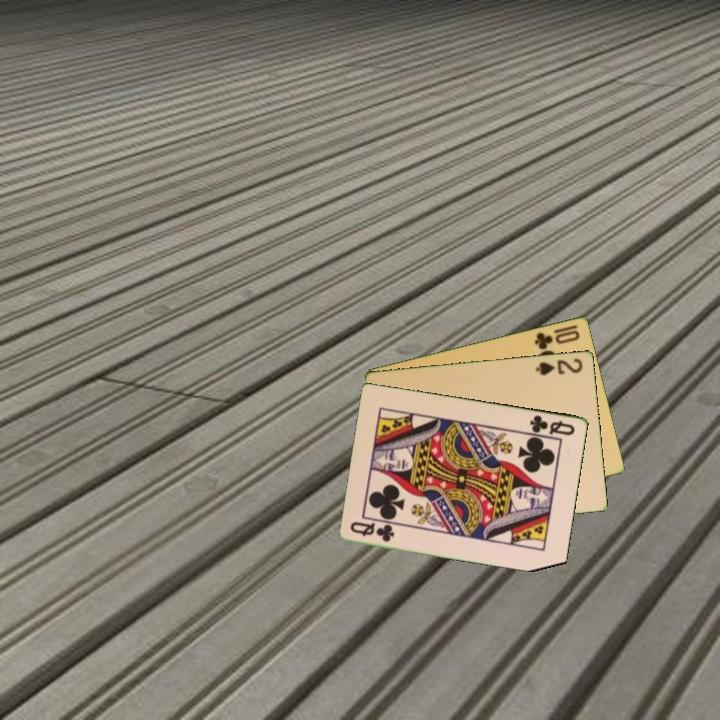10c: (531, 326, 583, 352)
2s: (532, 355, 586, 378)
Qc: (526, 411, 578, 438), (347, 518, 397, 544)
